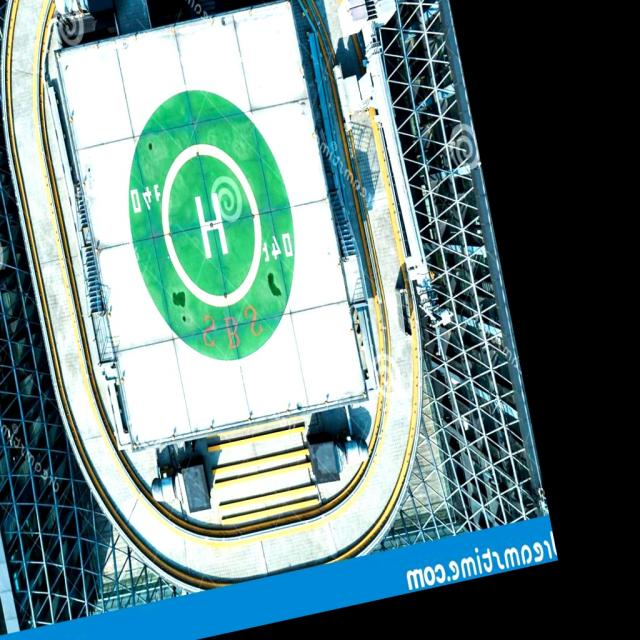helipad: (156, 139, 266, 309)
